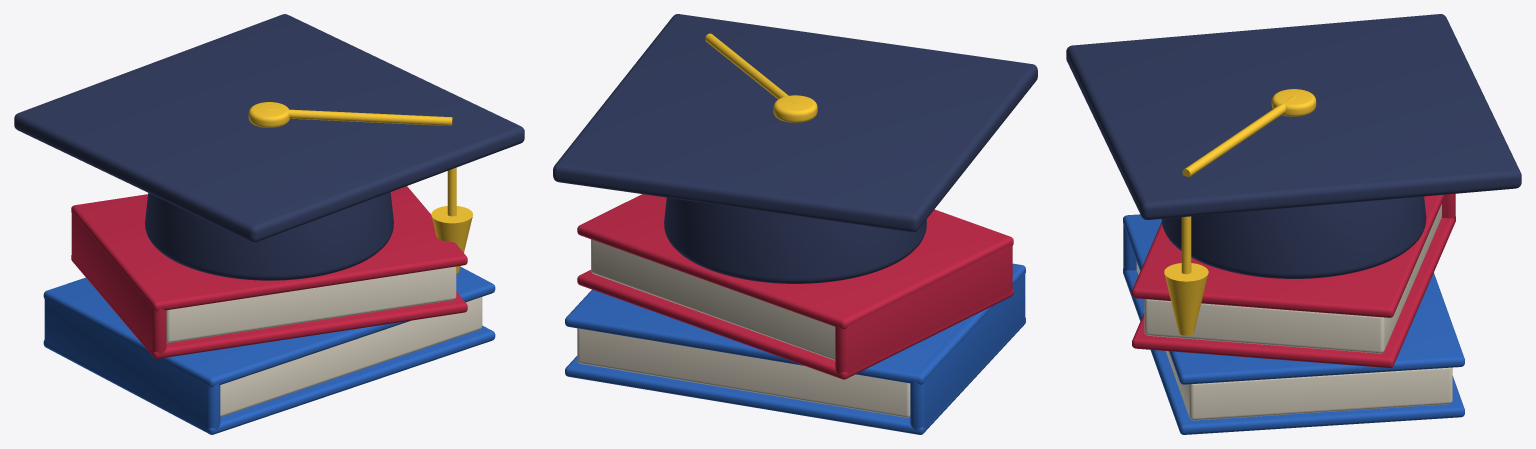
File: level-university.glb
3 views of the same model, side by side, from view 1: azimuth 30°, elevation 25°; view 2: azimuth 150°, elevation 25°; view 3: azimuth 270°, elevation 25° (orthographic). The views are drawn at different scales.
Visible parts, largest first — view 1: Cube.008, Cube.005, Cone.001, Cube.007, Cube.003, Cube.002, Cube.001, Cube, Cube.004, Cube.006, tube.001, Cone (+1 smaller); view 2: Cube.008, Cube.005, Cone.001, Cube.003, Cube.006, Cube.001, Cube.007, Cube, Cube.002, Cube.004, Cylinder, tube.001; view 3: Cube.008, Cone.001, Cube.005, Cube.003, Cube.007, Cube.001, Cube.004, Cube, Cone, tube.001, Cylinder, tube.
Boxes of the visible parts, x1,y1,x2,y2 form: Cube.008: (14,14,524,242); Cube.005: (71,186,467,311); Cone.001: (145,192,393,280); Cube.007: (166,266,456,342); Cube.003: (220,297,482,416); Cube.002: (44,298,220,429); Cube.001: (43,267,495,387); Cube: (43,325,495,434); Cube.004: (71,255,467,358); Cube.006: (71,213,166,354); tube.001: (269,108,452,125); Cone: (431,206,472,273); Cube.008: (553,14,1037,232); Cube.005: (577,194,1013,328); Cone.001: (664,197,926,283); Cube.003: (577,328,910,417); Cube.006: (835,236,1012,373); Cube.001: (565,263,1025,384); Cube.007: (591,239,835,360); Cube: (565,317,1025,434); Cube.002: (910,273,1025,429); Cube.004: (577,270,1013,379); Cylinder: (773,95,817,122); tube.001: (705,33,796,103); Cube.008: (1066,14,1521,219); Cone.001: (1161,196,1426,278); Cube.005: (1132,194,1445,317); Cube.003: (1136,261,1452,420); Cube.007: (1144,204,1441,353); Cube.001: (1123,214,1464,384); Cube.004: (1132,216,1455,368); Cube: (1123,268,1464,434); Cone: (1164,263,1208,335); tube.001: (1182,96,1295,177); Cylinder: (1271,89,1316,116); tube: (1181,216,1191,274).
Bounding box in the file's own units: 2.05 × 1.24 × 2.05.
